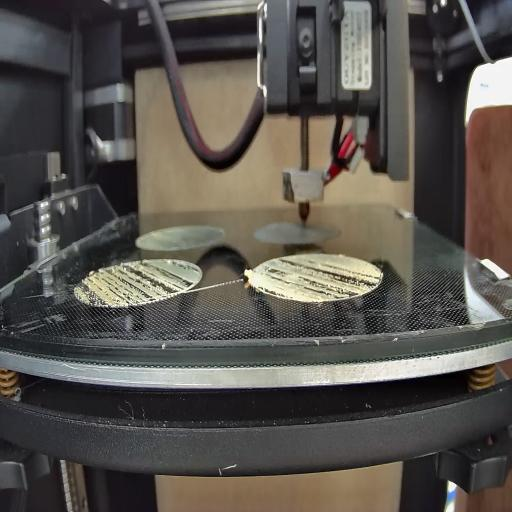under_extrusion: (76, 256, 196, 299), (258, 259, 385, 299)
